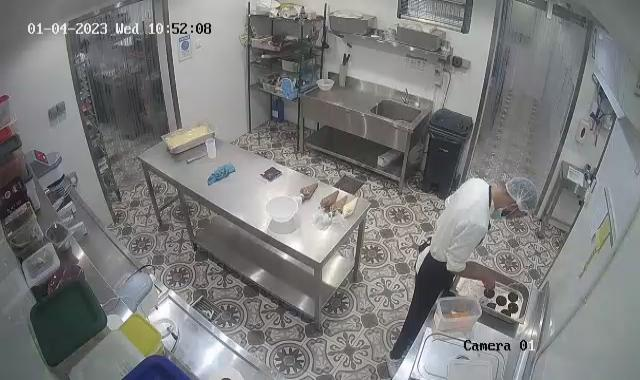hairnet: (507, 174, 538, 219)
